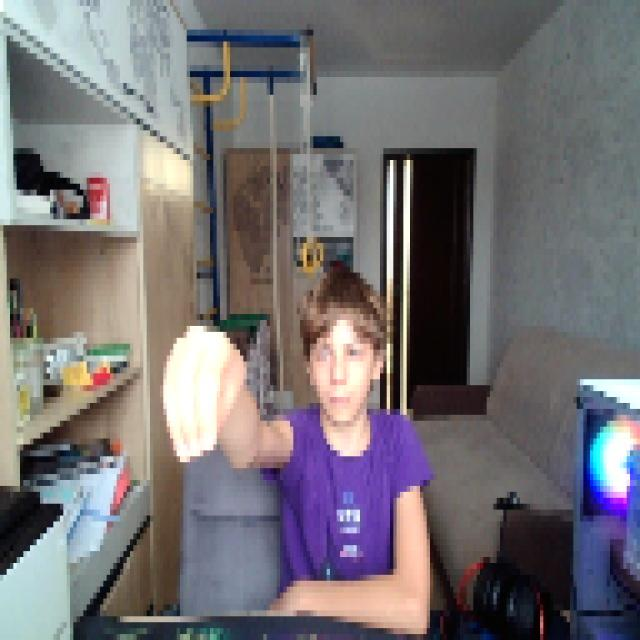left_click: (157, 314, 240, 456)
